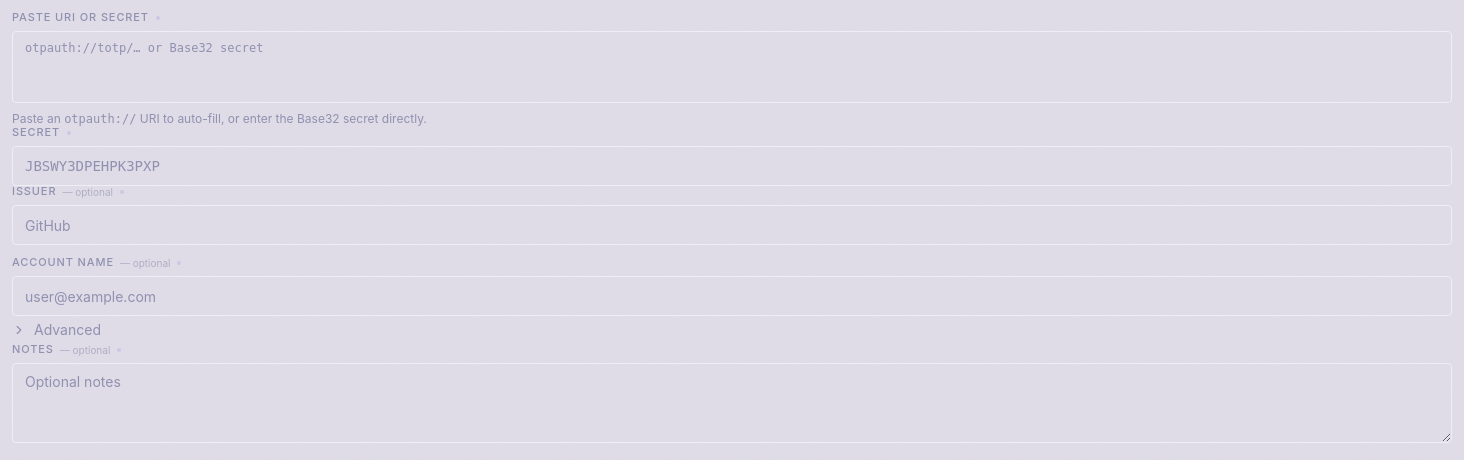
Test: TotpFields › shows error on invalid otpauth URI
Type "otpauth://garbage" into the text box labelled "Paste URI or Secret".
click(732, 67); type("otpauth://garbage")  # box [12,31,1452,103]
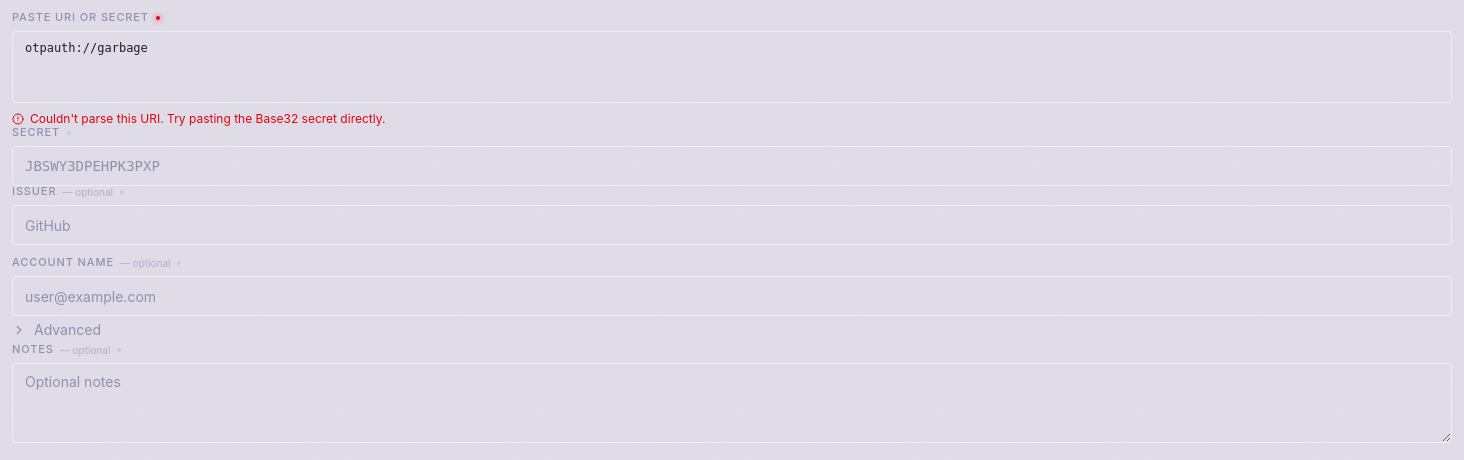
Expected: the text "Couldn't parse this URI" is shown, [30,111,385,126]
